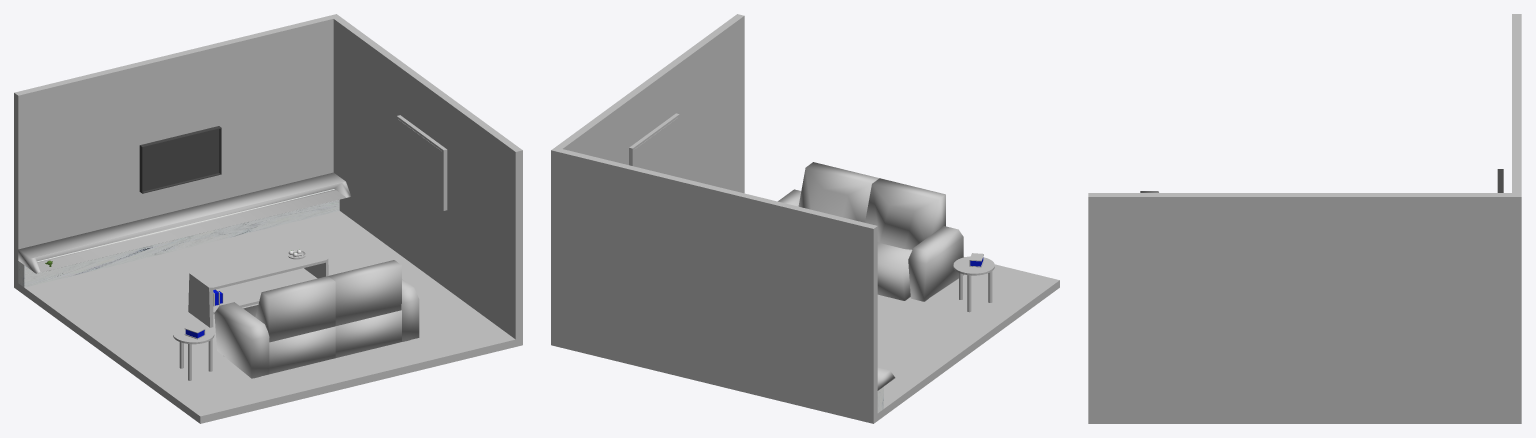
The model's file is living roomA110082003_.fbx.
3 renders of one model, left to right at view 1: azimuth 30°, elevation 25°; view 2: azimuth 150°, elevation 25°; view 3: azimuth 270°, elevation 25°, orthographic. The views are drawn at different scales.
Visible parts, largest first — view 1: FF牆壁, 2地板, FF牆壁.001, 立方體.010, 立方體.011, 後板, 立方體.003, 立方體.009, 立方體.007, 立方體, 立方體.017, 立方體.005 (+5 smaller); view 2: FF牆壁, FF牆壁.001, 2地板, 立方體.003, 立方體.009, 立方體.007, 立方體.005, 立方體.017, 圓柱體, 立方體.016; view 3: FF牆壁.001, FF牆壁, 2地板.
Part boxes in pixels (box(x1,y1,x2,y2)): FF牆壁: box(14, 14, 340, 282); 2地板: box(14, 211, 522, 423); FF牆壁.001: box(333, 17, 522, 339); 立方體.010: box(18, 172, 350, 273); 立方體.011: box(18, 189, 339, 287); 後板: box(139, 126, 221, 193); 立方體.003: box(255, 276, 335, 342); 立方體.009: box(328, 260, 401, 325); 立方體.007: box(214, 302, 269, 378); 立方體: box(192, 244, 325, 289); 立方體.017: box(398, 119, 441, 207); 立方體.005: box(243, 305, 335, 374); FF牆壁: box(551, 147, 877, 416); FF牆壁.001: box(555, 14, 744, 193); 2地板: box(551, 257, 1059, 423); 立方體.003: box(865, 178, 945, 249); 立方體.009: box(798, 162, 879, 222); 立方體.007: box(908, 226, 963, 301); 立方體.005: box(877, 242, 912, 300); 立方體.017: box(634, 118, 677, 176); 圓柱體: box(953, 256, 994, 275); 立方體.016: box(629, 113, 679, 176); FF牆壁.001: box(1088, 193, 1511, 415); FF牆壁: box(1512, 14, 1521, 415); 2地板: box(1088, 415, 1521, 423).
Bounding box in the file's own units: 900 × 520 × 900.
